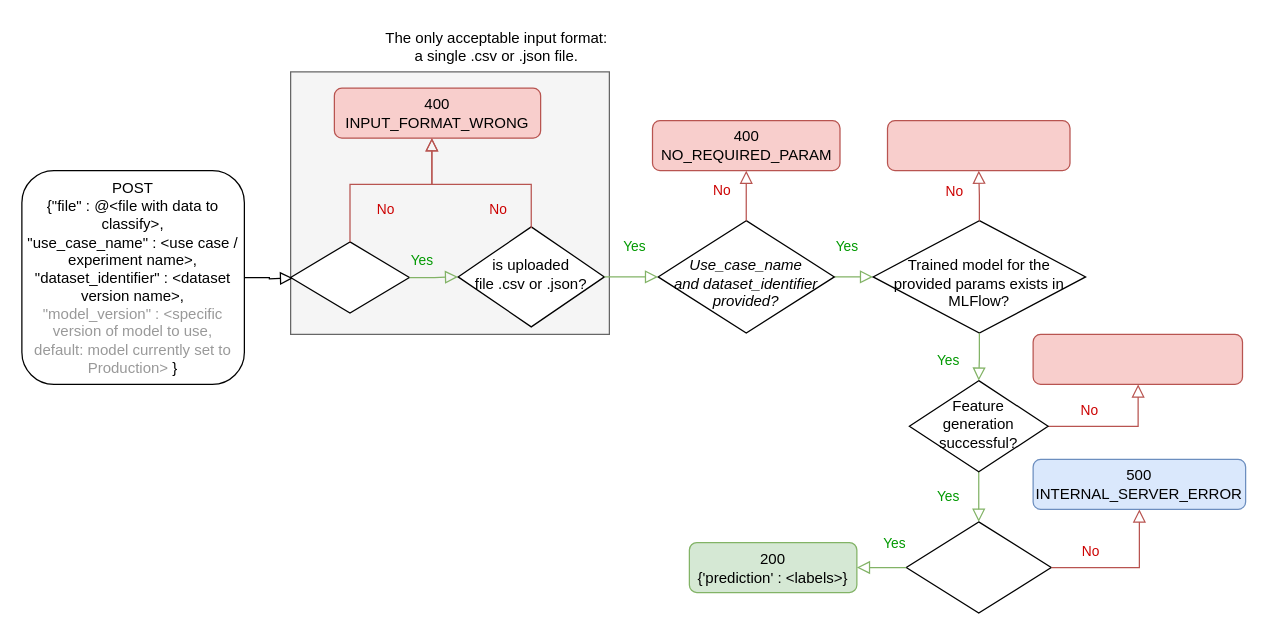
Image size: 1268x635. Some labels were removed from this diagram. Here are the shapes that lost their labels. From the top down, the centre of each, then its label:
pixel 978 145: 404 MODEL_NOT_FOUND
pixel 349 277: # files == 1
pixel 1137 358: 400 FEATURES_NOT_CREATED
pixel 978 567: Prediction successful?
